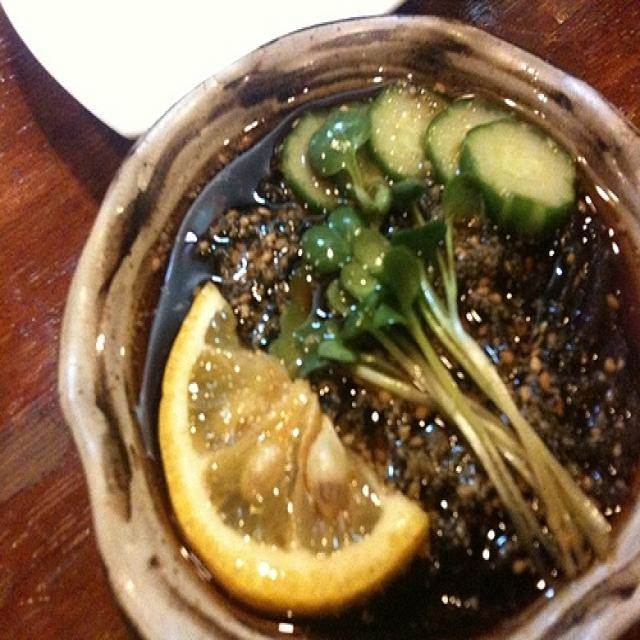蔬菜料理: (44, 17, 634, 628)
